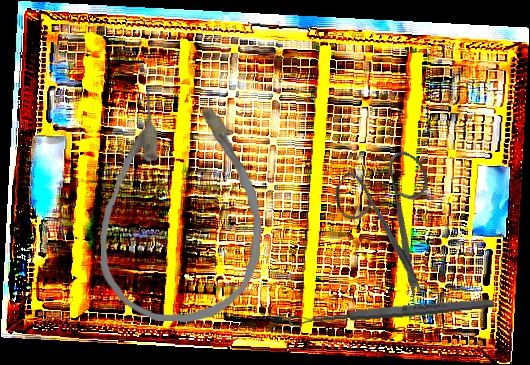Cannula: (98, 88, 266, 325)
Iris Scissors: (308, 130, 485, 304)
Surgical Spoon: (287, 296, 496, 328)
